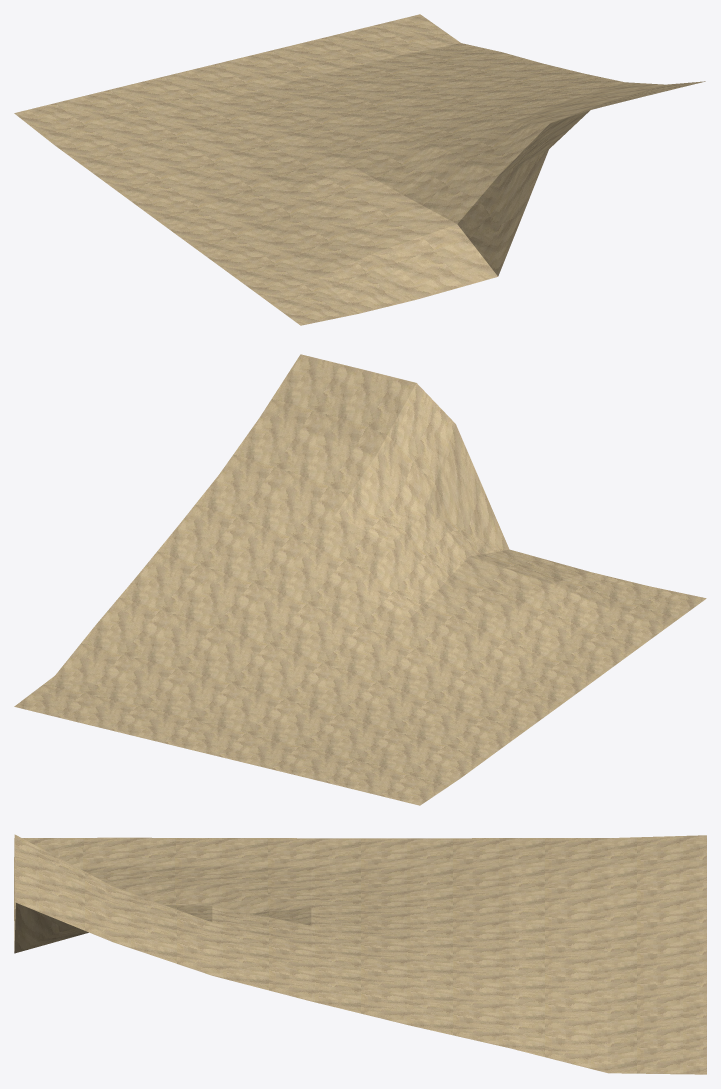
The model's file is ConstructSand-col.GLB.
3 views of the same model, one above another, from view 1: azimuth 30°, elevation 25°; view 2: azimuth 150°, elevation 25°; view 3: azimuth 270°, elevation 25° (orthographic). The views are drawn at different scales.
Visible parts, largest first — view 1: ConstructSand-col; view 2: ConstructSand-col; view 3: ConstructSand-col.
Part boxes in pixels (bbox=[...]): ConstructSand-col: bbox=[14, 14, 705, 325]; ConstructSand-col: bbox=[14, 354, 706, 805]; ConstructSand-col: bbox=[14, 834, 706, 1074].
Bounding box in the file's own units: 9.01 × 3.12 × 11.01.
1 material, 1 textured.
